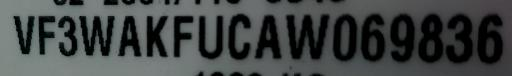letter: (282, 12, 328, 58), (472, 10, 504, 62), (77, 14, 115, 55), (444, 12, 472, 64), (138, 15, 170, 59), (252, 11, 280, 61), (386, 11, 414, 61), (416, 11, 442, 63), (192, 14, 222, 57), (224, 12, 252, 58), (330, 13, 358, 59), (360, 12, 386, 60), (52, 13, 80, 56), (168, 13, 194, 59), (114, 16, 140, 57), (12, 10, 36, 54), (34, 12, 56, 55)
